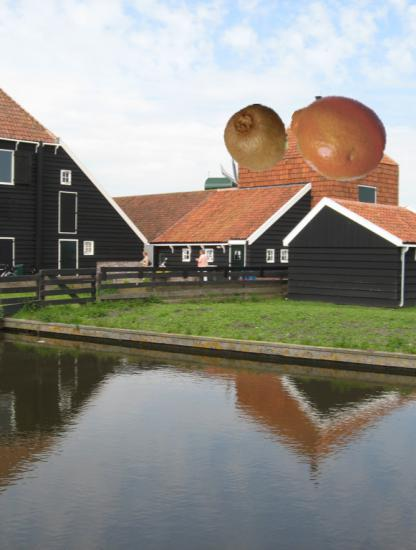Kiwi: (222, 104, 290, 172)
Tangelo: (288, 87, 387, 186)
